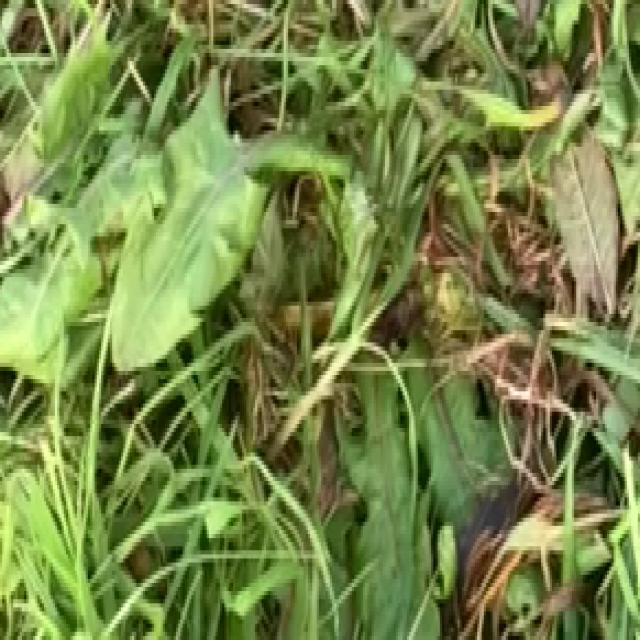organic waste: (15, 49, 365, 391)
